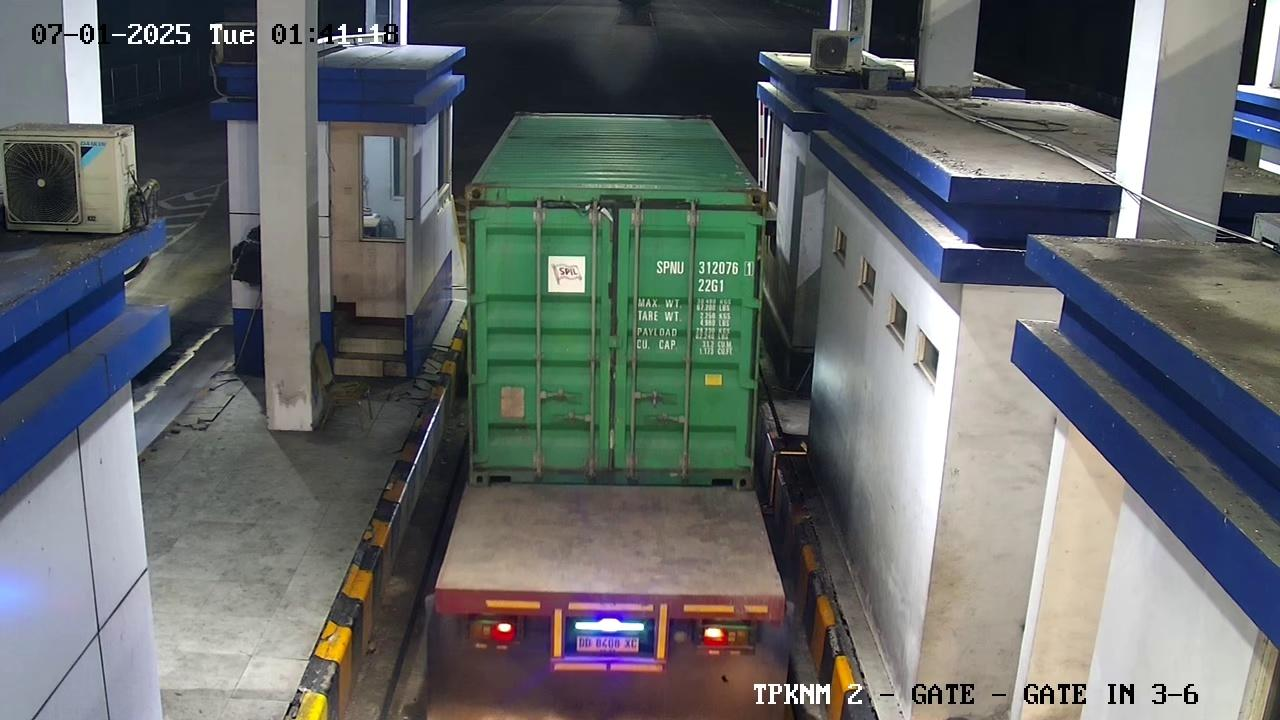Container_ID: (644, 249, 779, 280)
